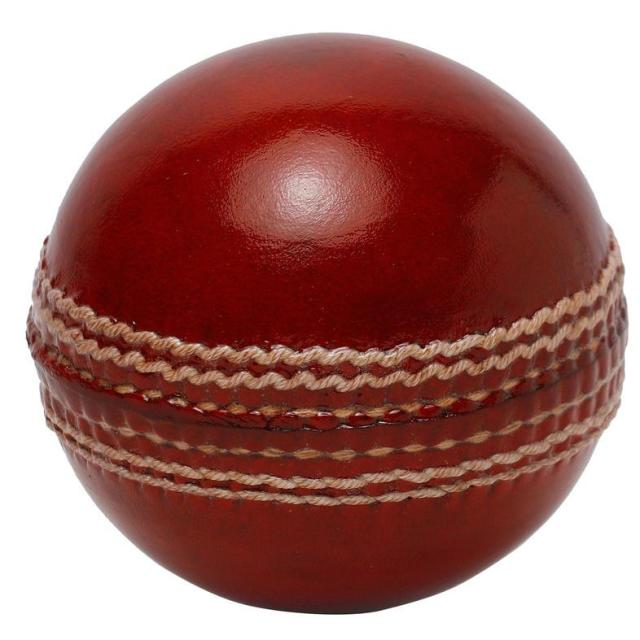ball: (30, 31, 629, 614)
